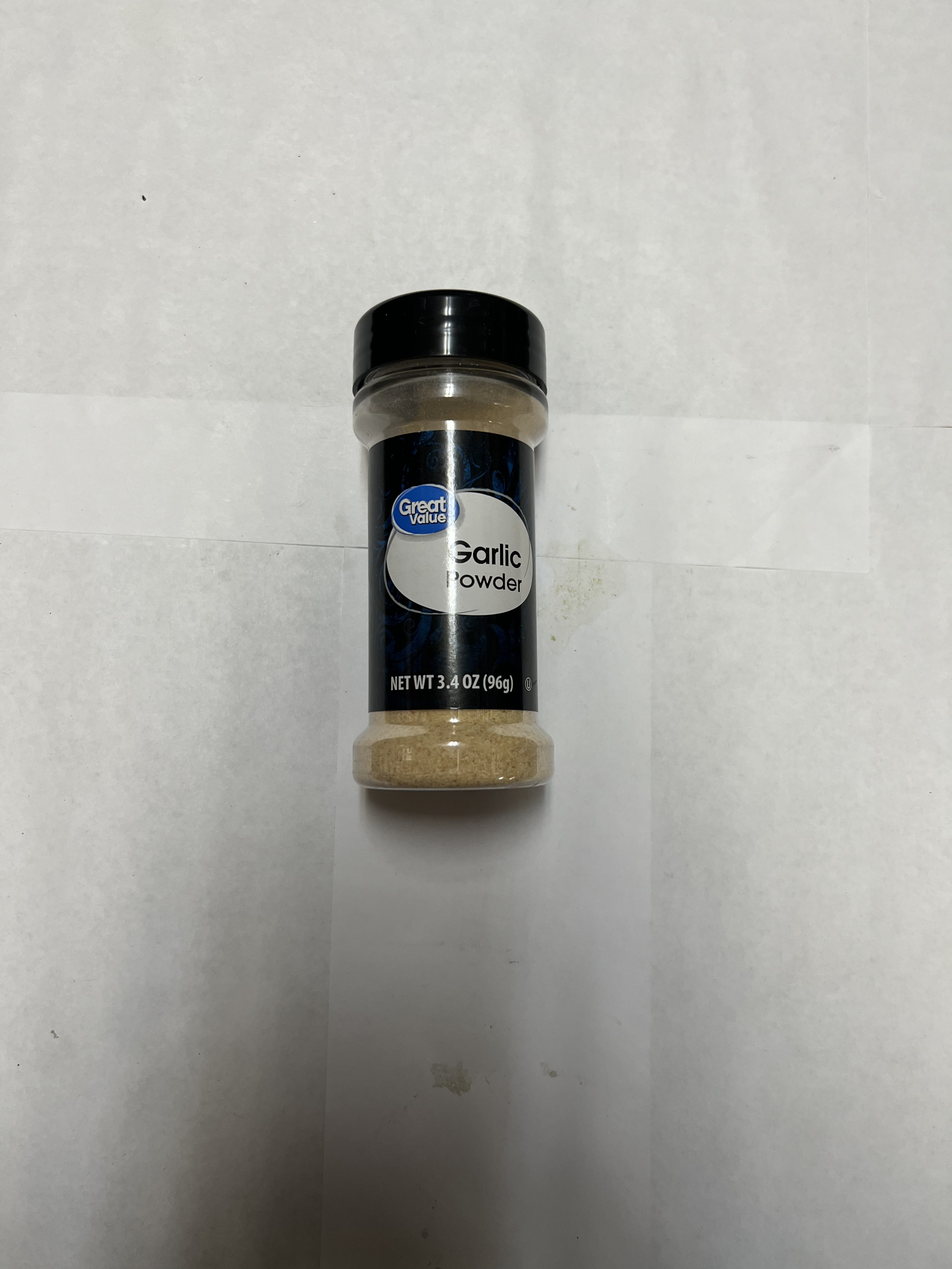packaged: (345, 283, 567, 811)
